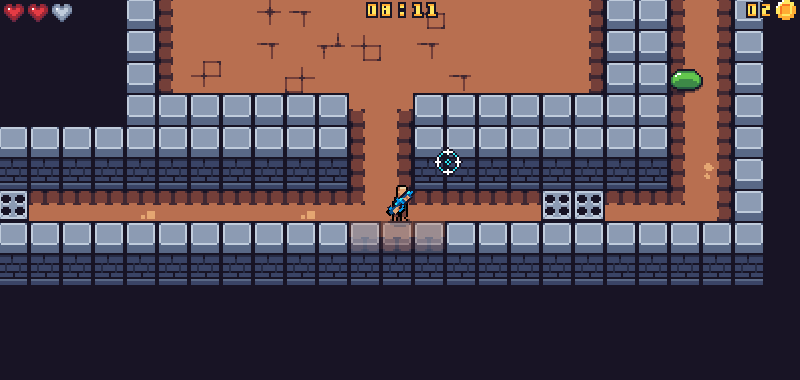enemy_slug: (668, 66, 705, 93)
trap_off: (542, 191, 605, 219)
